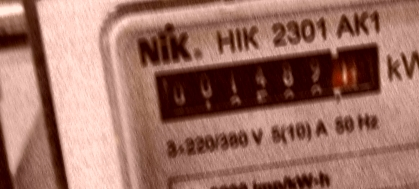0: (192, 71, 212, 98), (166, 79, 185, 106)
1: (221, 65, 239, 96), (332, 55, 349, 86)
4: (248, 62, 267, 90)
8: (273, 58, 294, 87)
9: (302, 56, 321, 83)
screen: (134, 27, 399, 141)
